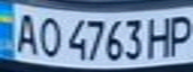3: (124, 16, 148, 61)
4: (63, 15, 87, 61)
6: (103, 17, 127, 62)
7: (84, 16, 106, 62)
A: (9, 9, 42, 55)
H: (145, 12, 175, 60)
O: (33, 12, 63, 59)
P: (166, 11, 193, 57)
